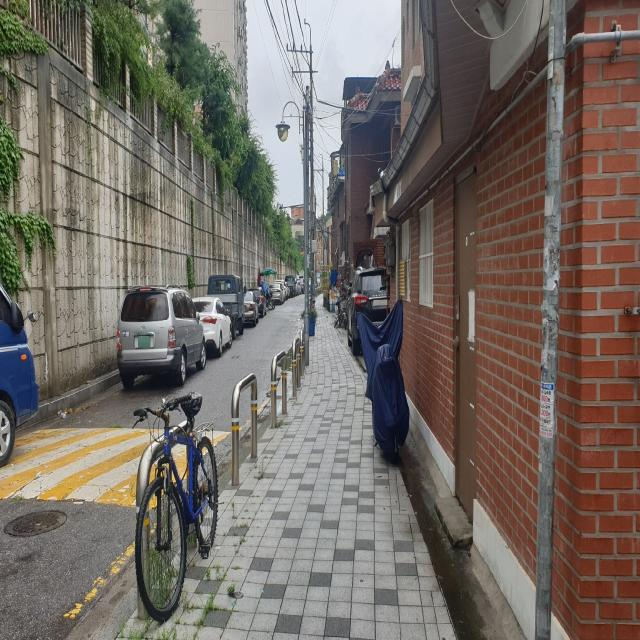car: (116, 284, 206, 390), (0, 264, 40, 466), (347, 266, 390, 355), (205, 275, 244, 339), (191, 297, 232, 357), (247, 286, 267, 318), (244, 291, 258, 327), (268, 284, 284, 305)
motorbike: (357, 300, 410, 456)
